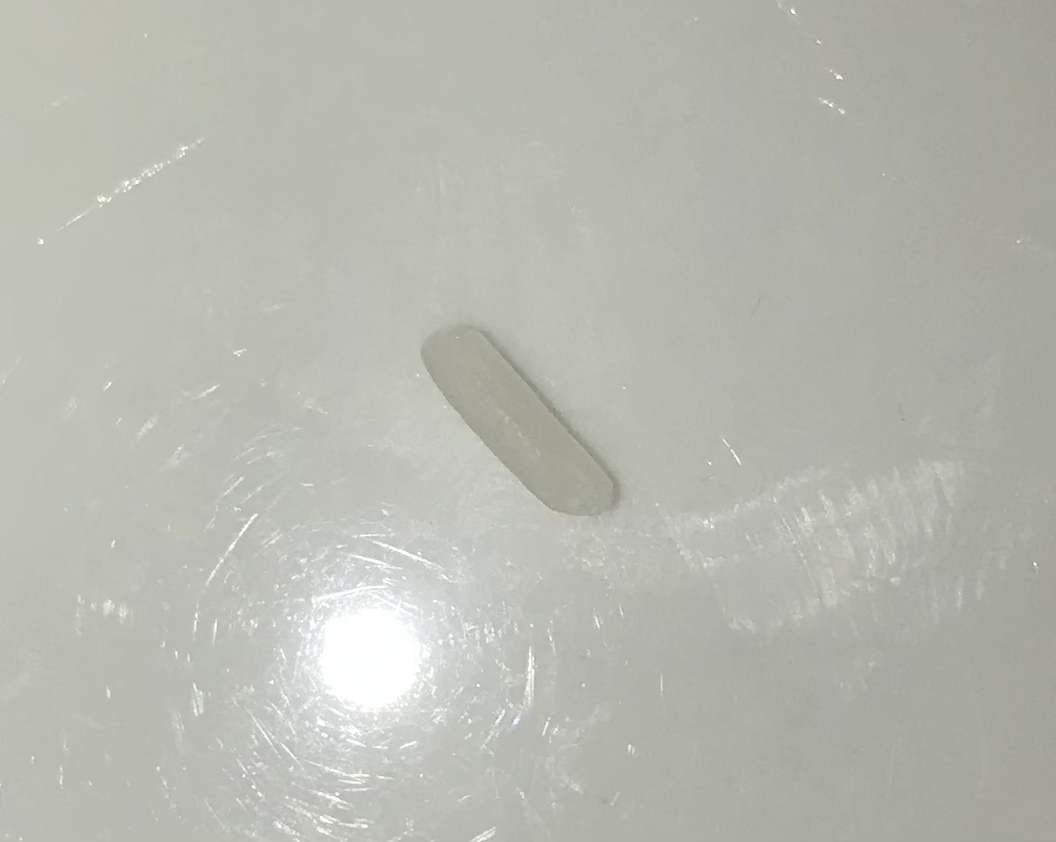Gao Thom Go Cong: (402, 297, 628, 539)
